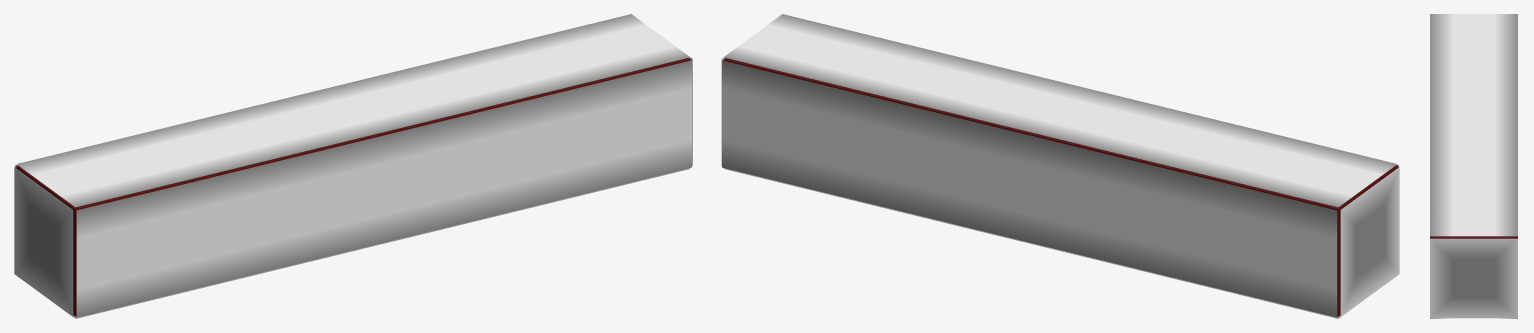
The model's file is heatpipe.obj.
3 views of the same model, side by side, from view 1: azimuth 30°, elevation 25°; view 2: azimuth 150°, elevation 25°; view 3: azimuth 270°, elevation 25° (orthographic). The views are drawn at different scales.
Visible parts, largest first — view 1: Heatpipe4, Heatpipe3, Heatpipe6, Heatpipe1, Heatpipe5; view 2: Heatpipe2, Heatpipe3, Heatpipe6, Heatpipe1, Heatpipe5; view 3: Heatpipe3, Heatpipe7, Heatpipe1, Heatpipe5.
Boxes of the visible parts, box(x1,y1,x2,y2) form: Heatpipe4: box(76, 60, 691, 317); Heatpipe3: box(16, 14, 689, 207); Heatpipe6: box(14, 167, 73, 316); Heatpipe1: box(16, 58, 690, 316); Heatpipe5: box(17, 168, 690, 318); Heatpipe2: box(722, 60, 1337, 317); Heatpipe3: box(724, 14, 1397, 207); Heatpipe6: box(1340, 167, 1399, 316); Heatpipe1: box(723, 58, 1397, 316); Heatpipe5: box(723, 168, 1396, 318); Heatpipe3: box(1430, 14, 1517, 236); Heatpipe7: box(1430, 238, 1517, 317); Heatpipe1: box(1430, 236, 1517, 238); Heatpipe5: box(1430, 318, 1517, 318).
Bounding box in the file's own units: 6.04 × 1.04 × 1.04.
Materials: 3 (2 with a texture image).
